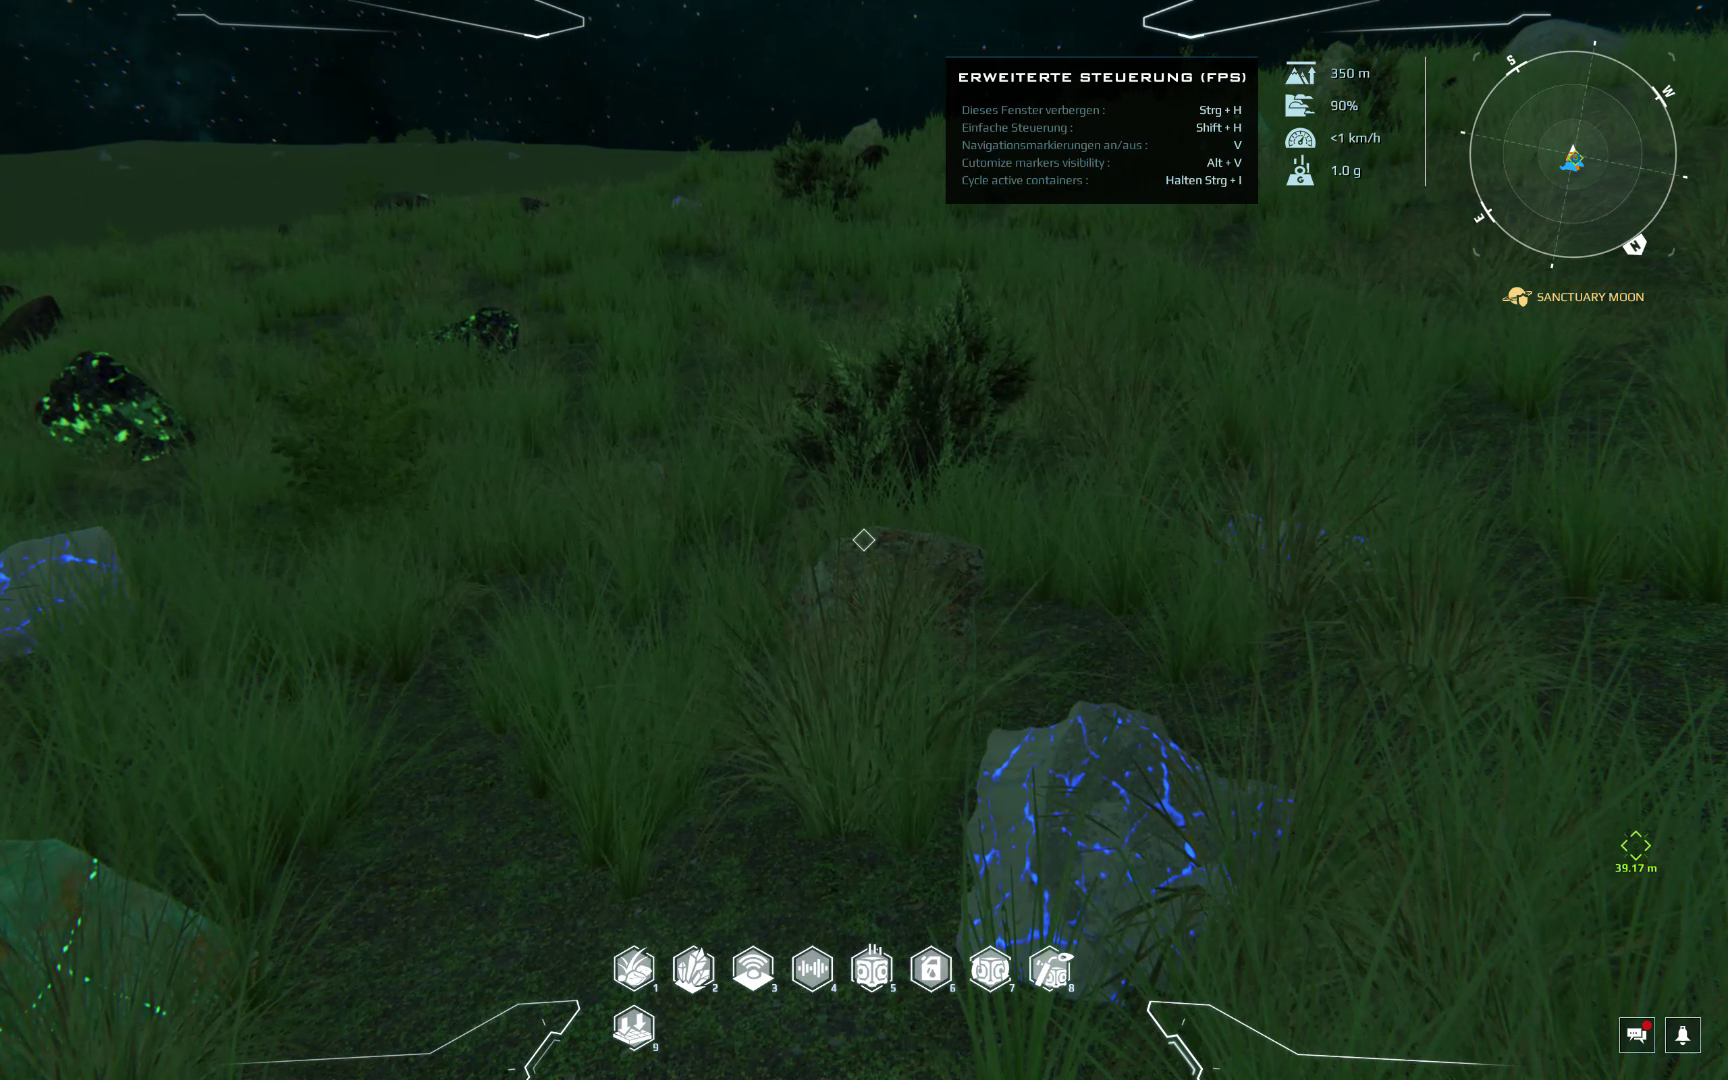Ore: (964, 698, 1308, 1023), (2, 832, 282, 1079), (778, 528, 987, 698), (1208, 482, 1401, 597), (31, 348, 200, 475), (1, 528, 139, 672), (416, 304, 527, 366), (6, 294, 62, 358), (384, 187, 442, 214), (661, 192, 712, 219), (518, 192, 556, 216)
